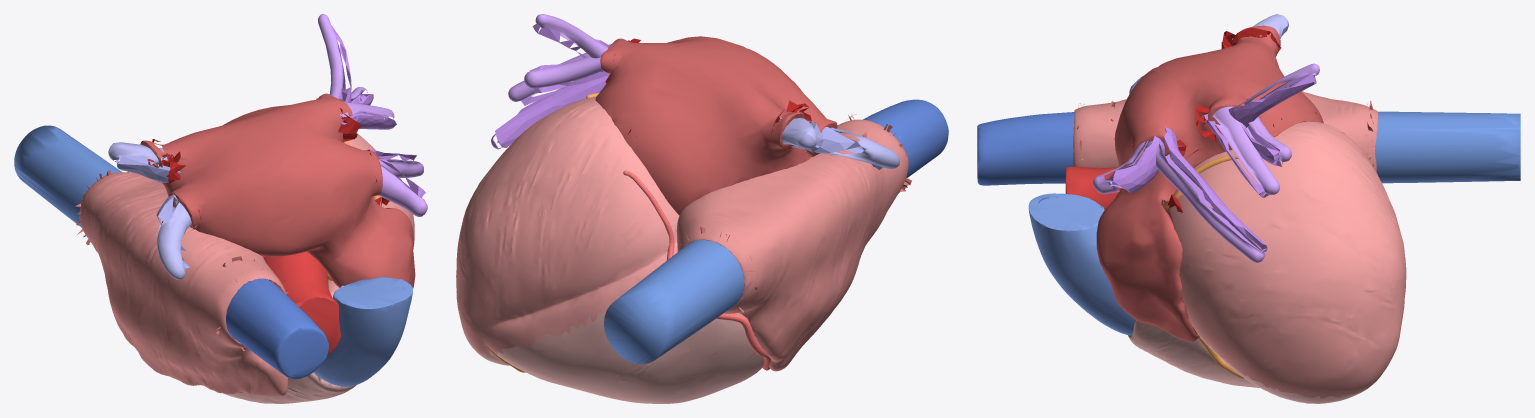
The model's file is heart_master.glb.
3 renders of one model, left to right at view 1: azimuth 30°, elevation 25°; view 2: azimuth 150°, elevation 25°; view 3: azimuth 270°, elevation 25°, orthographic. The views are drawn at different scales.
Parts seen in each view (by area): view 1: Left_Atrium, Right_Atrium, Pulmonary_Trunk, Superior_Vena_Cava, Inferior_Vena_Cava, Ascending_Aorta, Left_Pulmonary_Veins, Right_Pulmonary_Veins, Left_Pulmonary_Veins_Inner, Right_Ventricle, Right_Pulmonary_Veins_Inner, Left_Atrium_Inner (+1 smaller); view 2: Left_Ventricle, Right_Atrium, Left_Atrium, Right_Ventricle, Inferior_Vena_Cava, Superior_Vena_Cava, Left_Pulmonary_Veins_Inner, Left_Pulmonary_Veins, Right_Pulmonary_Veins, Right_Coronary_Artery, Right_Pulmonary_Veins_Inner; view 3: Left_Ventricle, Left_Atrium, Inferior_Vena_Cava, Pulmonary_Trunk, Superior_Vena_Cava, Left_Pulmonary_Veins_Inner, Left_Pulmonary_Veins, Right_Atrium, Right_Ventricle, Ascending_Aorta, Left_Atrium_Inner, Left_Coronary_System.
Part boxes in pixels (left/top/right/bottom): Left_Atrium: left=140, top=93, right=415, bottom=288; Right_Atrium: left=79, top=172, right=288, bottom=396; Pulmonary_Trunk: left=313, top=277, right=412, bottom=386; Superior_Vena_Cava: left=226, top=278, right=328, bottom=379; Inferior_Vena_Cava: left=14, top=125, right=122, bottom=227; Ascending_Aorta: left=263, top=251, right=341, bottom=354; Left_Pulmonary_Veins: left=318, top=14, right=427, bottom=216; Right_Pulmonary_Veins: left=108, top=142, right=191, bottom=279; Left_Pulmonary_Veins_Inner: left=331, top=25, right=425, bottom=197; Right_Ventricle: left=222, top=290, right=356, bottom=403; Right_Pulmonary_Veins_Inner: left=116, top=155, right=189, bottom=268; Left_Atrium_Inner: left=147, top=96, right=389, bottom=231; Left_Ventricle: left=456, top=96, right=679, bottom=355; Right_Atrium: left=676, top=119, right=908, bottom=371; Left_Atrium: left=595, top=36, right=837, bottom=215; Right_Ventricle: left=478, top=313, right=764, bottom=403; Inferior_Vena_Cava: left=604, top=239, right=744, bottom=364; Superior_Vena_Cava: left=863, top=99, right=948, bottom=177; Left_Pulmonary_Veins_Inner: left=495, top=24, right=609, bottom=147; Left_Pulmonary_Veins: left=491, top=14, right=611, bottom=149; Right_Pulmonary_Veins: left=779, top=116, right=899, bottom=169; Right_Coronary_Artery: left=623, top=170, right=770, bottom=370; Right_Pulmonary_Veins_Inner: left=791, top=121, right=882, bottom=169; Left_Ventricle: left=1163, top=121, right=1406, bottom=398; Left_Atrium: left=1096, top=25, right=1323, bottom=341; Inferior_Vena_Cava: left=1375, top=111, right=1520, bottom=183; Pulmonary_Trunk: left=1028, top=193, right=1134, bottom=335; Superior_Vena_Cava: left=977, top=112, right=1074, bottom=185; Left_Pulmonary_Veins_Inner: left=1105, top=73, right=1316, bottom=252; Left_Pulmonary_Veins: left=1093, top=63, right=1319, bottom=262; Right_Atrium: left=1073, top=91, right=1378, bottom=171; Right_Ventricle: left=1128, top=320, right=1370, bottom=403; Ascending_Aorta: left=1065, top=166, right=1120, bottom=209; Left_Atrium_Inner: left=1131, top=27, right=1316, bottom=328; Left_Coronary_System: left=1164, top=154, right=1244, bottom=378.
Size of the model in its own units: 119 by 123 by 172.
